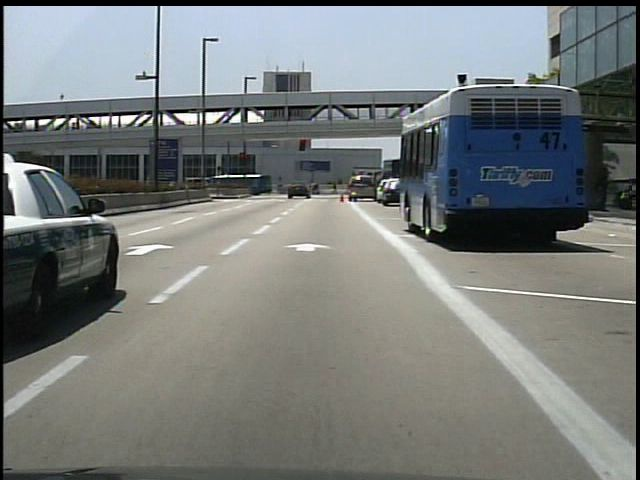person: (330, 181, 340, 197), (311, 182, 321, 197)
